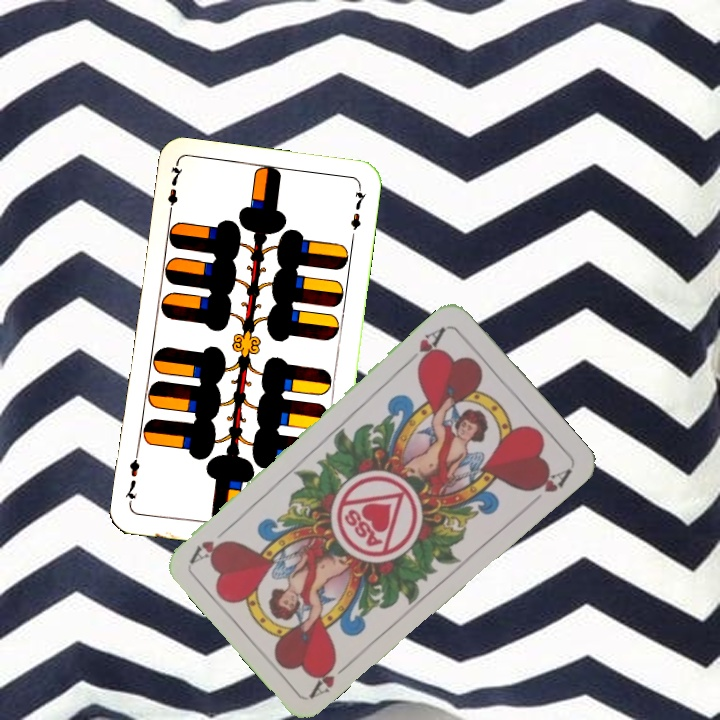E7: (163, 161, 185, 220)
HA: (403, 322, 449, 372), (306, 654, 356, 700)
